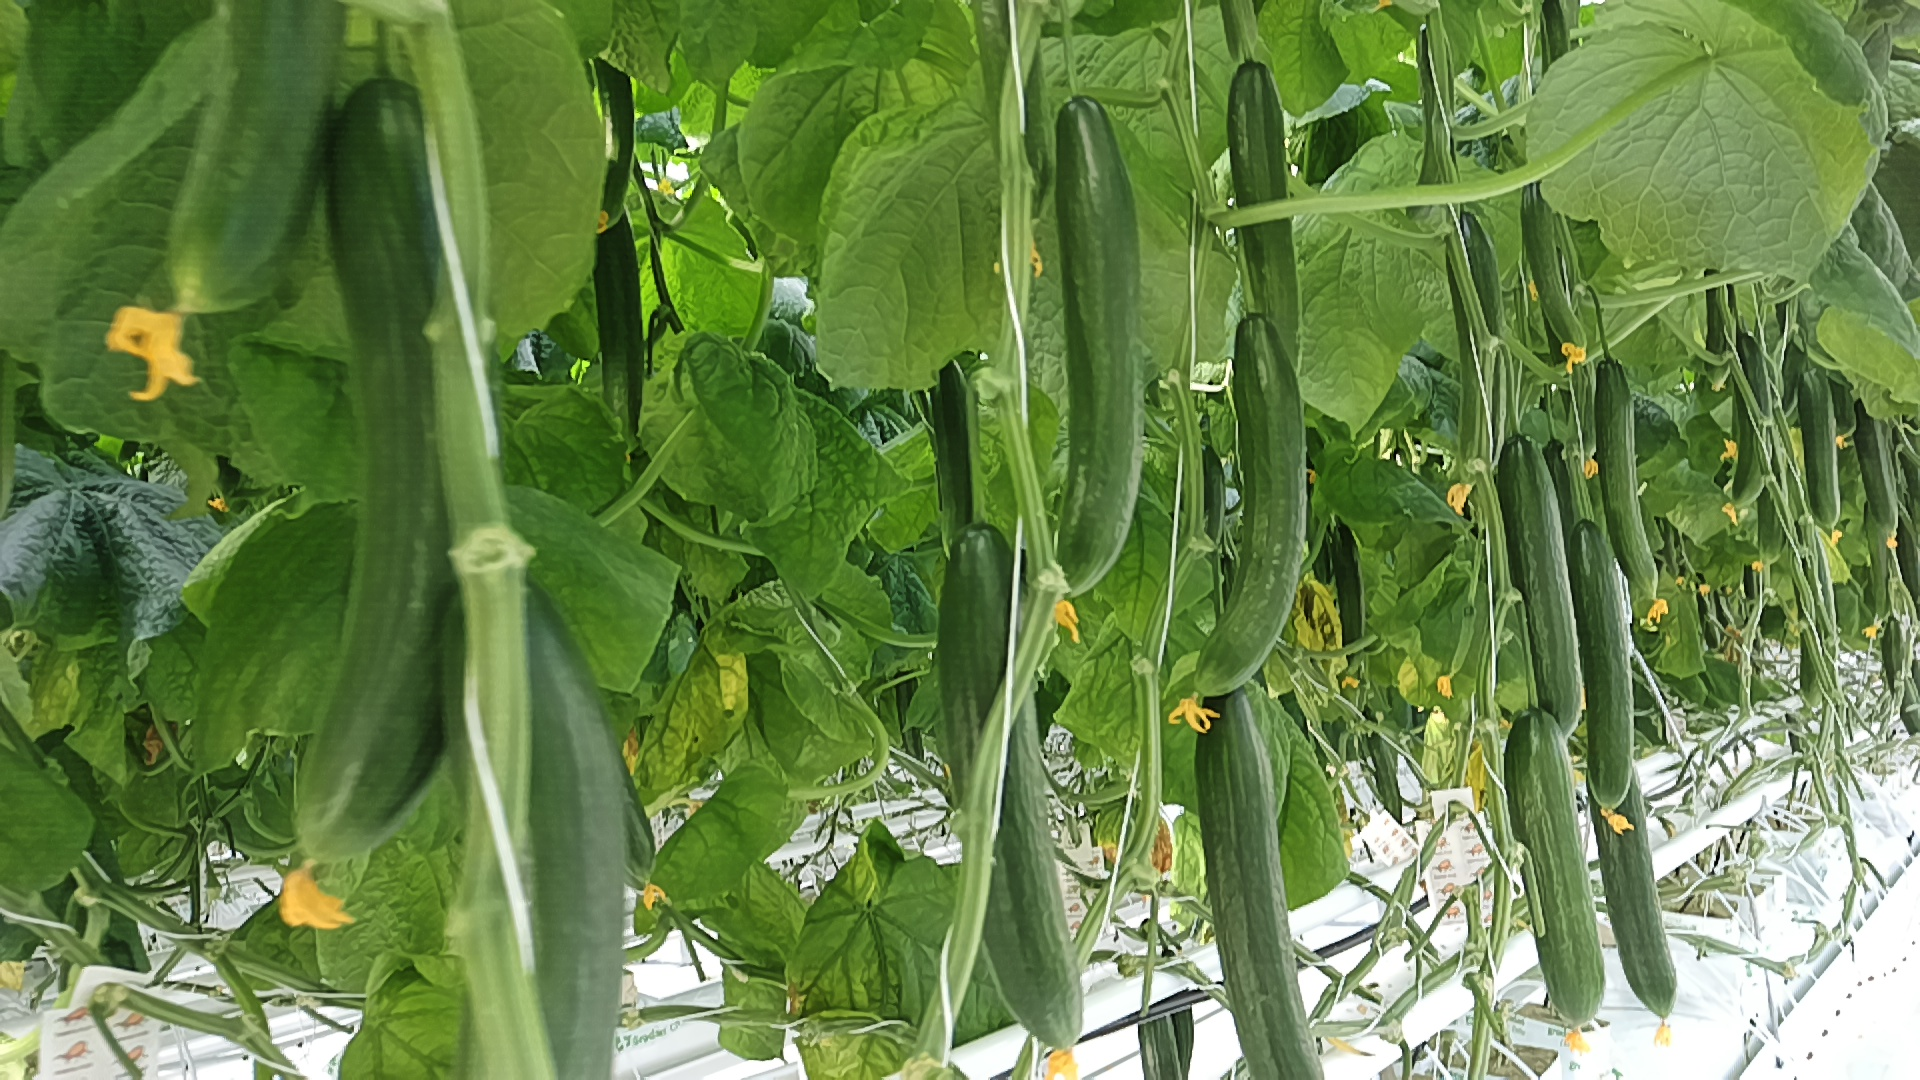gurka: (260, 79, 542, 874), (924, 529, 1106, 1054), (1034, 92, 1168, 618), (1183, 301, 1313, 713), (1501, 695, 1615, 1033), (1491, 426, 1610, 729), (1516, 171, 1597, 375), (1783, 353, 1859, 530)
